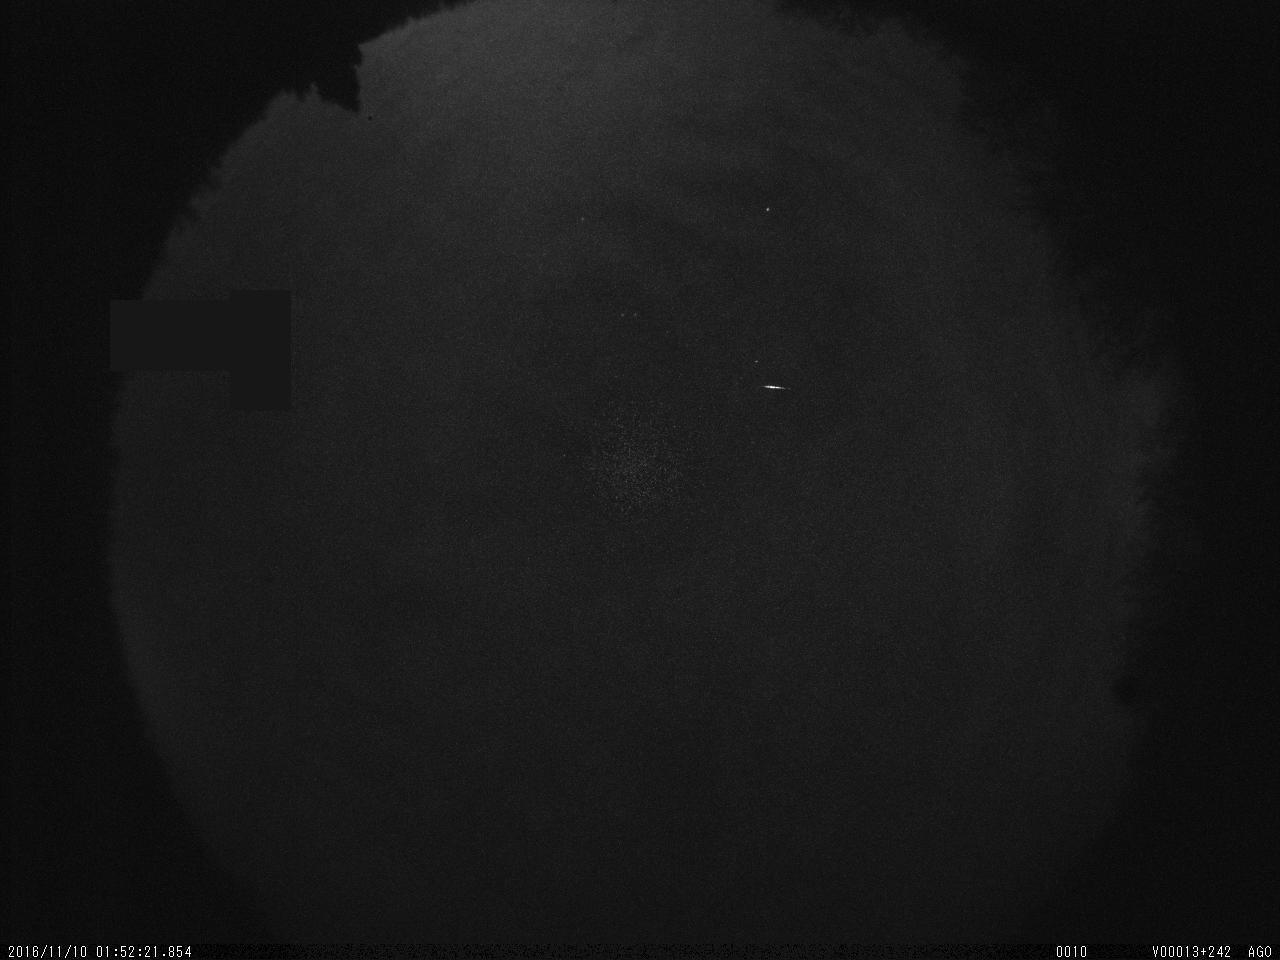Meteor: (756, 378, 789, 395)
